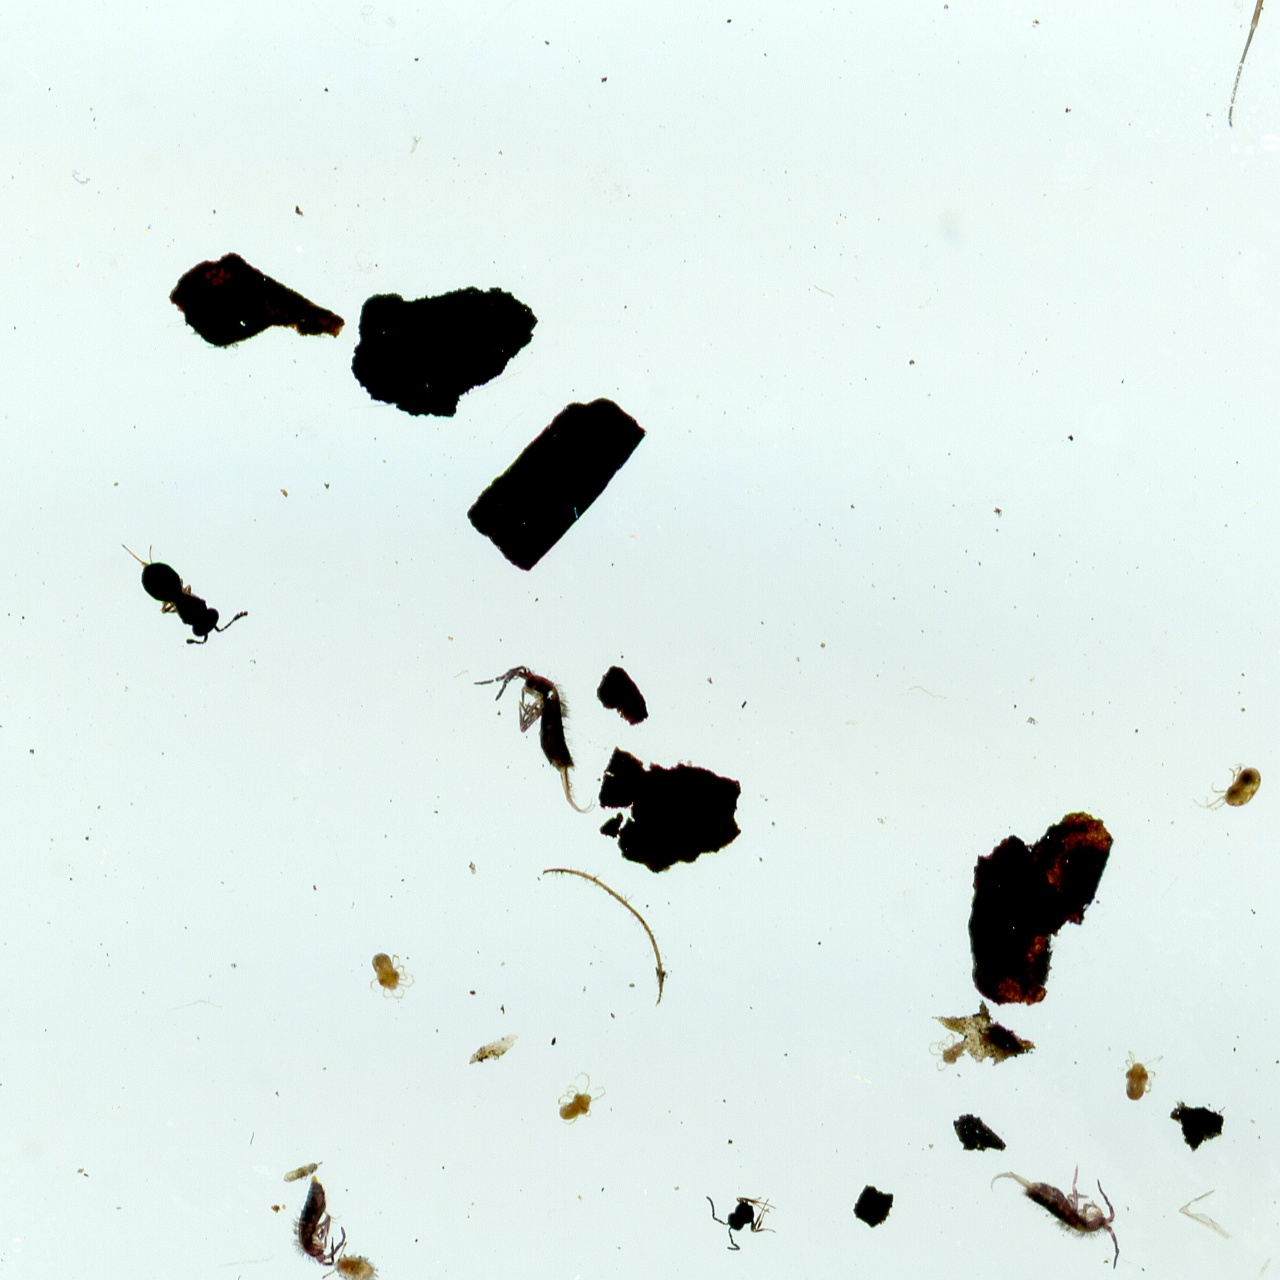arthropod: (1113, 0, 1280, 134), (468, 657, 600, 821), (115, 539, 252, 651), (989, 1163, 1121, 1272), (288, 1174, 348, 1269), (702, 1191, 778, 1254), (1188, 760, 1264, 818), (556, 1070, 607, 1128), (319, 1238, 389, 1280), (1121, 1046, 1166, 1103), (367, 951, 417, 1001), (927, 1031, 970, 1073), (279, 1157, 326, 1185)
